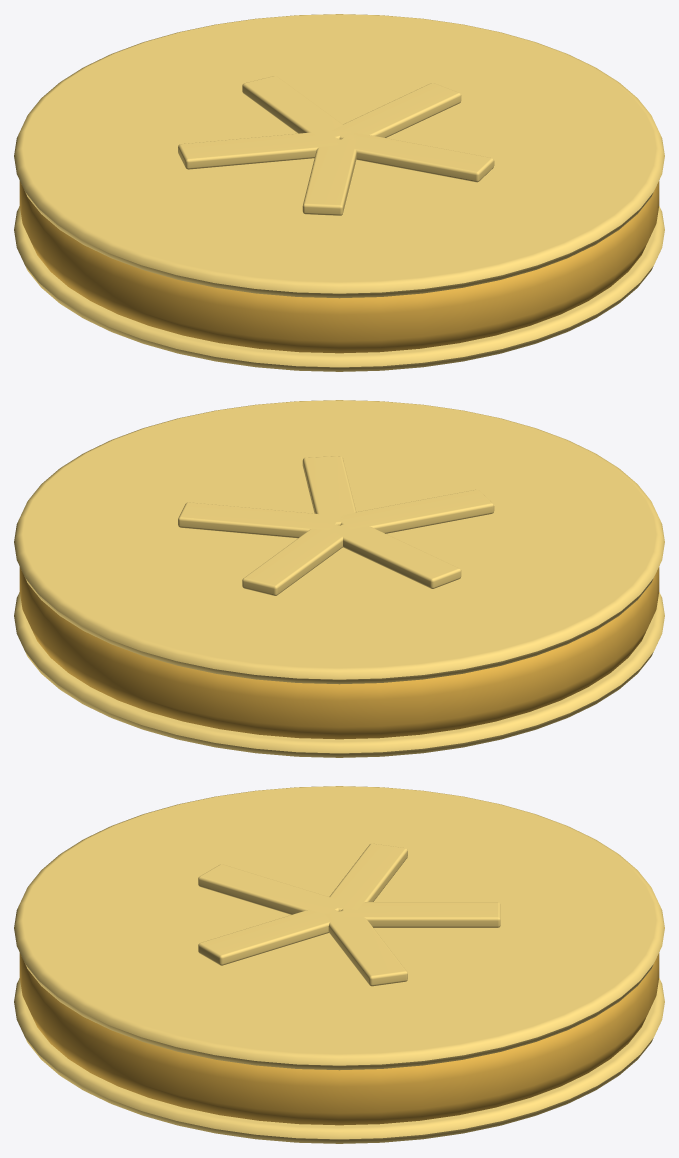
File: coin-token.glb
3 views of the same model, one above another, from view 1: azimuth 30°, elevation 25°; view 2: azimuth 150°, elevation 25°; view 3: azimuth 270°, elevation 25° (orthographic).
Visible parts, largest first — view 1: CoinToken; view 2: CoinToken; view 3: CoinToken.
Part boxes in pixels (x1,y1,x2,y2): CoinToken: (14,14,664,371); CoinToken: (14,400,664,757); CoinToken: (14,786,664,1143).
Bounding box in the file's own units: 0.224 × 0.038 × 0.224.
